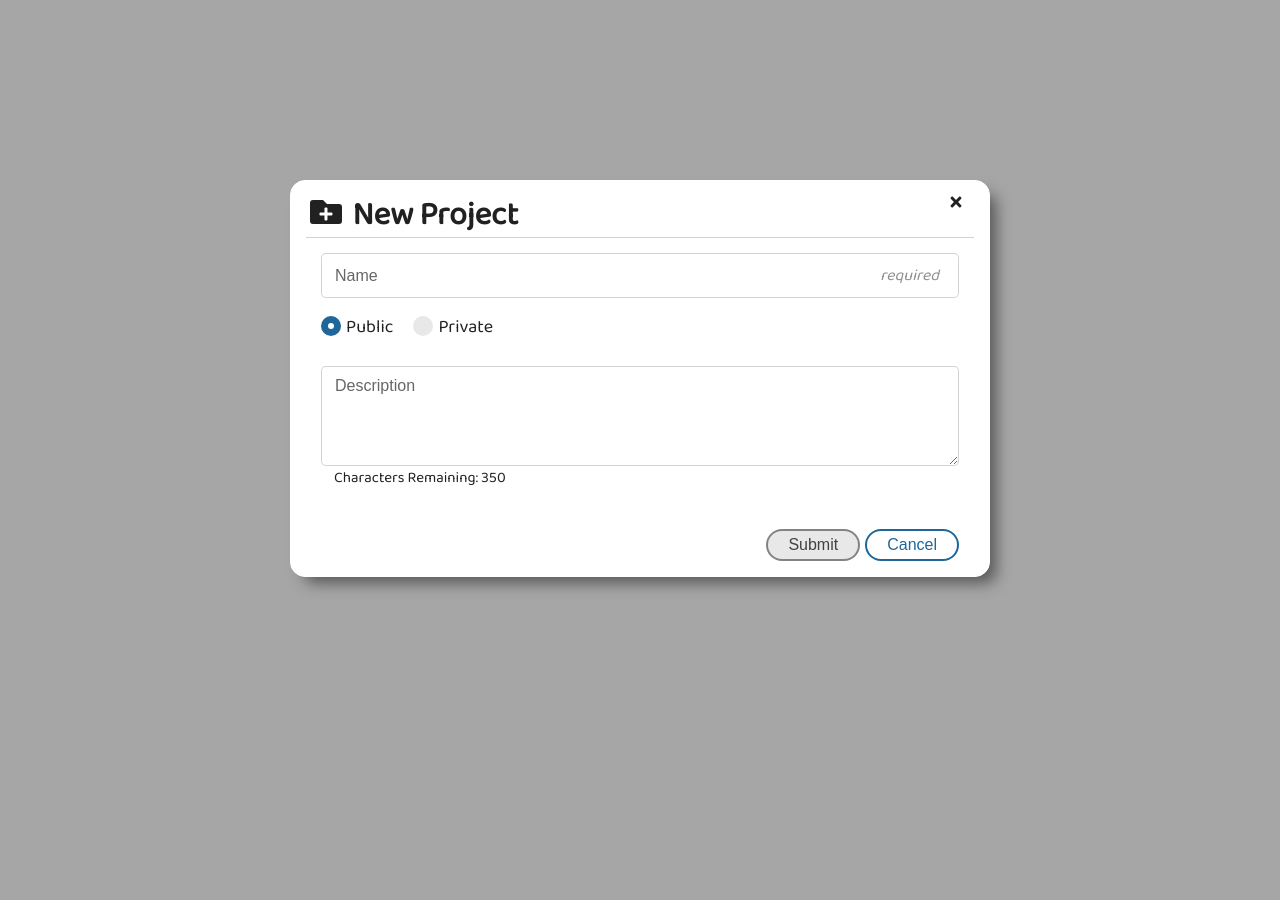
Test case: <ProjectModal /> › should disable the submit button if there is an input error
In the field with test id "nameInput.input": [640, 276] box [321,253,959,298], type "some name"
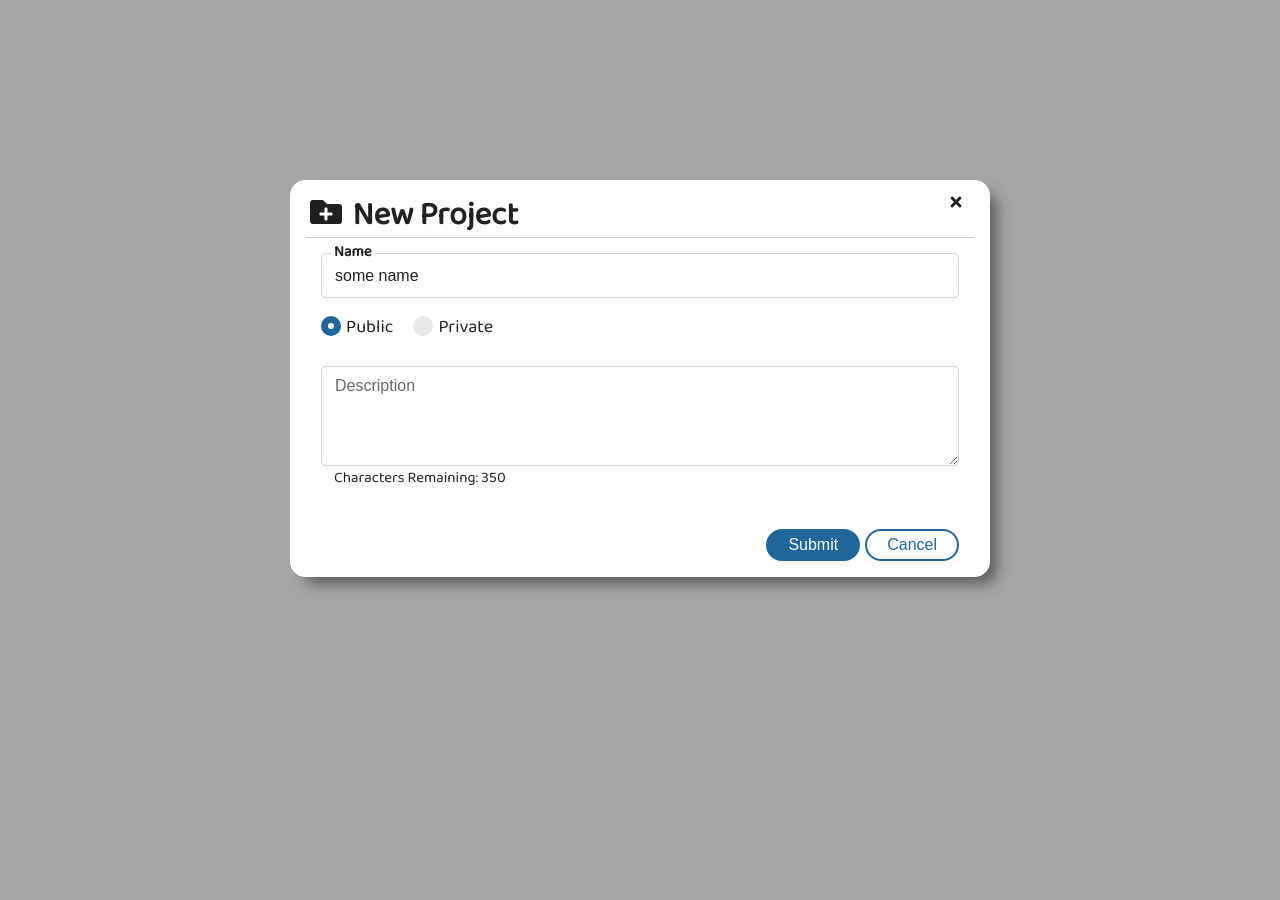
Click the button with test id "projectModal.actions.primaryButton": [813, 545] box [766,529,860,561]
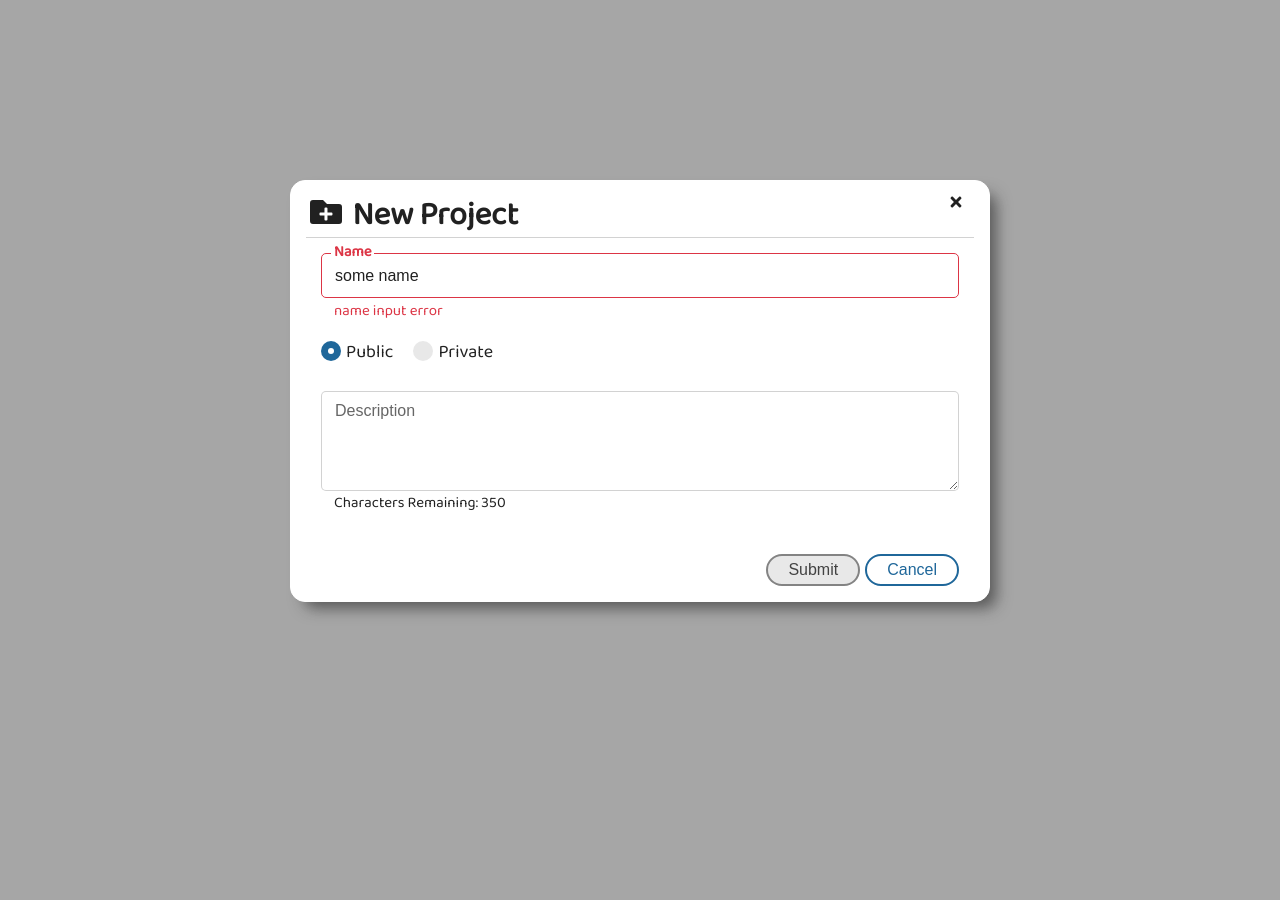
Check: the button with test id "projectModal.actions.primaryButton" is disabled, box [766,554,860,586]
